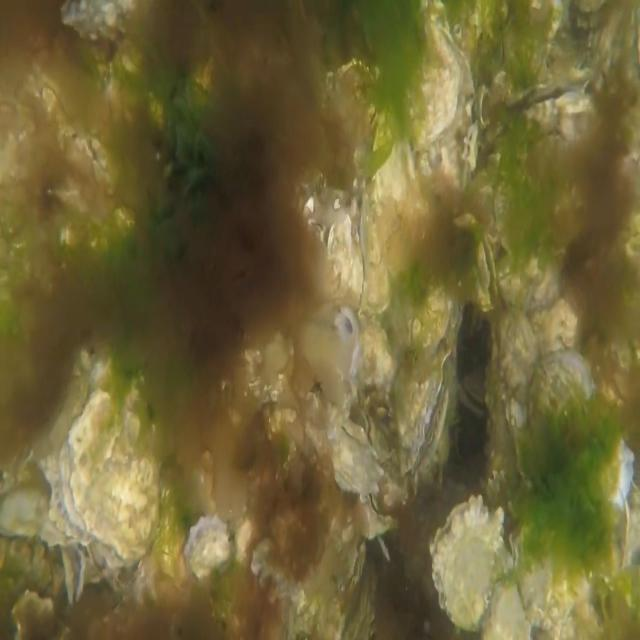Oyster-Closed: (509, 514, 590, 628), (395, 348, 452, 476), (309, 419, 385, 502), (351, 190, 370, 315), (352, 488, 397, 540)
Oyster-Indeterminate: (529, 352, 635, 512), (60, 390, 156, 564), (431, 492, 505, 631), (404, 0, 461, 158), (370, 110, 422, 280), (495, 309, 540, 483), (497, 249, 562, 314), (416, 284, 462, 367), (363, 190, 391, 318), (185, 510, 232, 572)
Oyster-Open: (502, 75, 599, 157), (321, 210, 352, 292), (474, 234, 500, 315)
